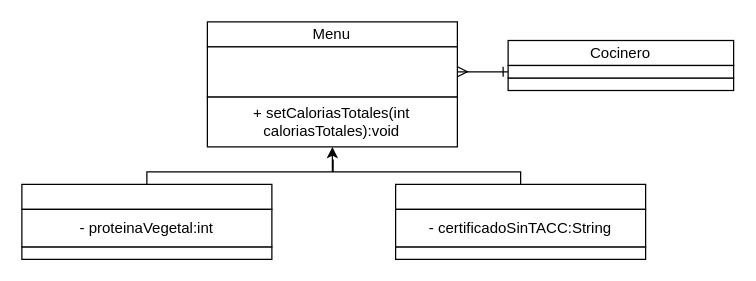
Image size: 756x281. Some labels were removed from this diagram. Each missing label, with the centre of its shape:
- diaSemana:String - caloríasTotales:int: point (331, 71)
MenuCeliaco: point (520, 196)
MenuVegano: point (146, 196)
